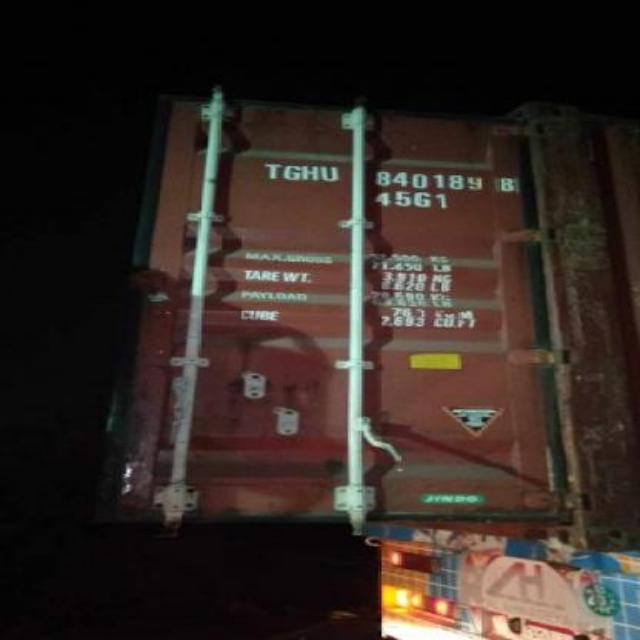0: (408, 166, 429, 190)
1: (430, 165, 446, 191)
4: (390, 162, 410, 188)
8: (492, 174, 522, 196), (446, 170, 468, 194), (371, 165, 392, 188)
9: (466, 170, 484, 192)
G: (286, 156, 302, 184)
H: (300, 157, 322, 183)
T: (254, 154, 284, 182)
U: (316, 160, 344, 188)
